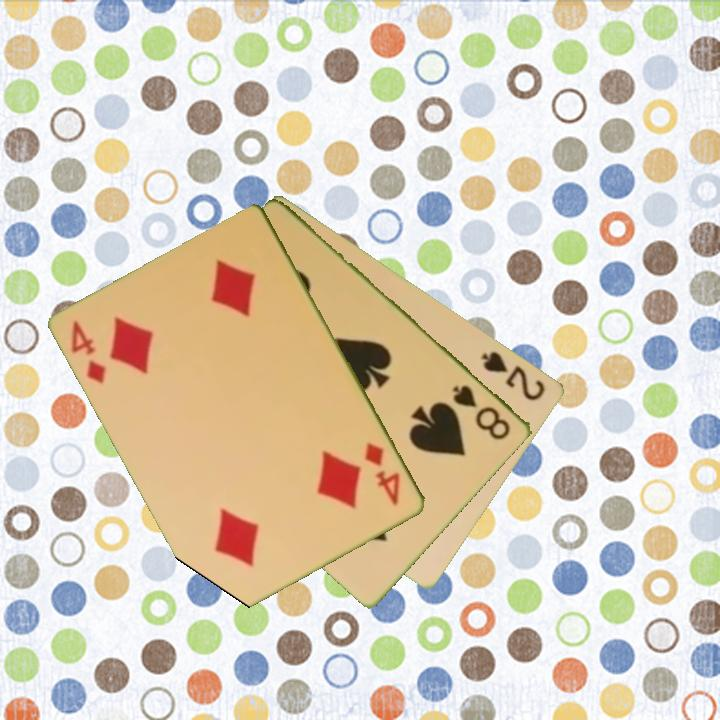2s: (477, 347, 549, 404)
4d: (361, 438, 404, 509), (68, 317, 110, 387)
8s: (449, 381, 514, 443)
